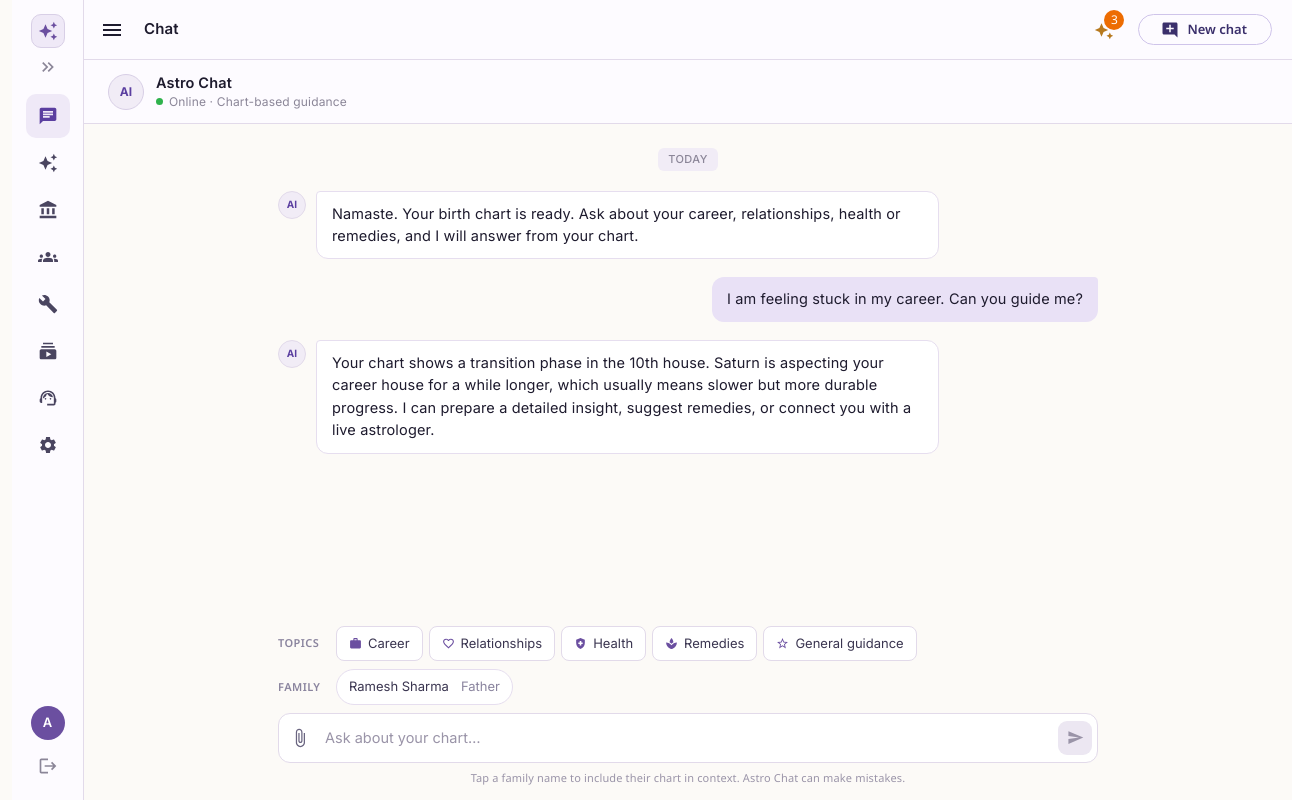
it: side panel lists every destination and puts Services above Subscription
Click the button named "open navigation".
click(112, 30)  # box [92,10,132,50]
(page scrolled)
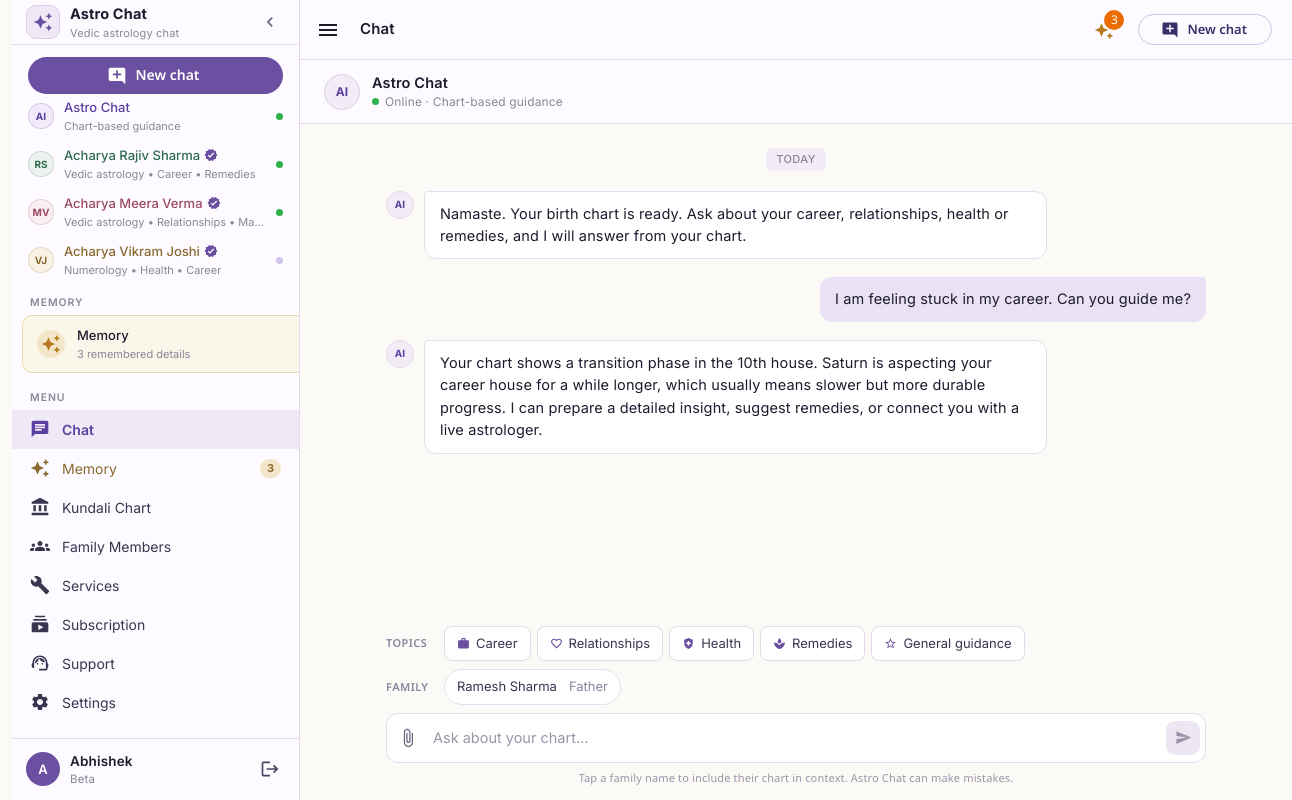
Result: the button "Chat" is shown at [12,410,299,449]
Result: the button "Memory 3 remembered details" is shown at [22,315,299,373]
Result: the button "Services" is shown at [12,566,299,605]
